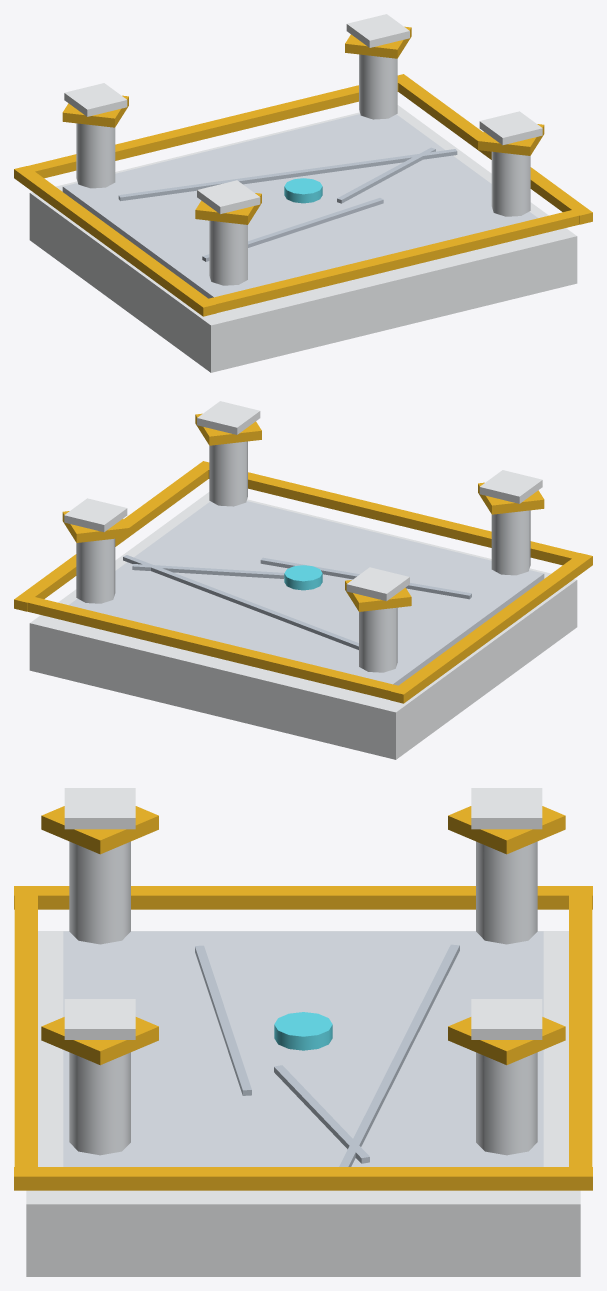
File: toy_olympus_marble_dais.glb
3 renders of one model, top to bottom at view 1: azimuth 30°, elevation 25°; view 2: azimuth 150°, elevation 25°; view 3: azimuth 270°, elevation 25°, orthographic. The views are drawn at different scales.
Parts seen in each view (by area): view 1: solid_2, solid_1, solid_4, solid_3, solid_5, solid_6, solid_10, solid_19, solid_16, solid_13, solid_7, solid_15 (+10 smaller); view 2: solid_2, solid_1, solid_3, solid_4, solid_5, solid_6, solid_16, solid_13, solid_10, solid_19, solid_7, solid_21 (+10 smaller); view 3: solid_2, solid_1, solid_6, solid_5, solid_4, solid_3, solid_13, solid_19, solid_10, solid_16, solid_12, solid_18 (+10 smaller).
Part boxes in pixels (box(x1,y1,x2,y2)): solid_2: box(62, 114, 537, 298); solid_1: box(29, 105, 577, 372); solid_4: box(201, 210, 583, 313); solid_3: box(25, 75, 405, 178); solid_5: box(14, 166, 216, 316); solid_6: box(398, 74, 592, 224); solid_10: box(76, 123, 115, 188); solid_19: box(491, 151, 530, 216); solid_16: box(209, 220, 247, 285); solid_13: box(359, 54, 397, 119); solid_7: box(118, 149, 457, 201); solid_15: box(346, 14, 409, 47); solid_2: box(69, 501, 544, 685); solid_1: box(29, 492, 577, 759); solid_3: box(22, 596, 405, 700); solid_4: box(201, 463, 580, 565); solid_5: box(390, 553, 592, 703); solid_6: box(14, 461, 209, 611); solid_16: box(491, 510, 530, 575); solid_13: box(76, 538, 115, 603); solid_10: box(359, 607, 397, 672); solid_19: box(209, 441, 247, 506); solid_7: box(123, 555, 358, 649); solid_21: box(197, 401, 260, 434); solid_2: box(63, 931, 543, 1166); solid_1: box(26, 931, 580, 1276); solid_6: box(14, 1167, 592, 1190); solid_5: box(14, 886, 592, 909); solid_4: box(14, 890, 37, 1172); solid_3: box(569, 890, 592, 1172); solid_13: box(476, 1052, 537, 1155); solid_19: box(69, 1052, 130, 1155); solid_10: box(476, 841, 537, 944); solid_16: box(69, 841, 130, 944); solid_12: box(471, 788, 542, 829); solid_18: box(64, 788, 135, 829).
Bounding box in the file's own units: 4.47 × 1.66 × 3.76.
